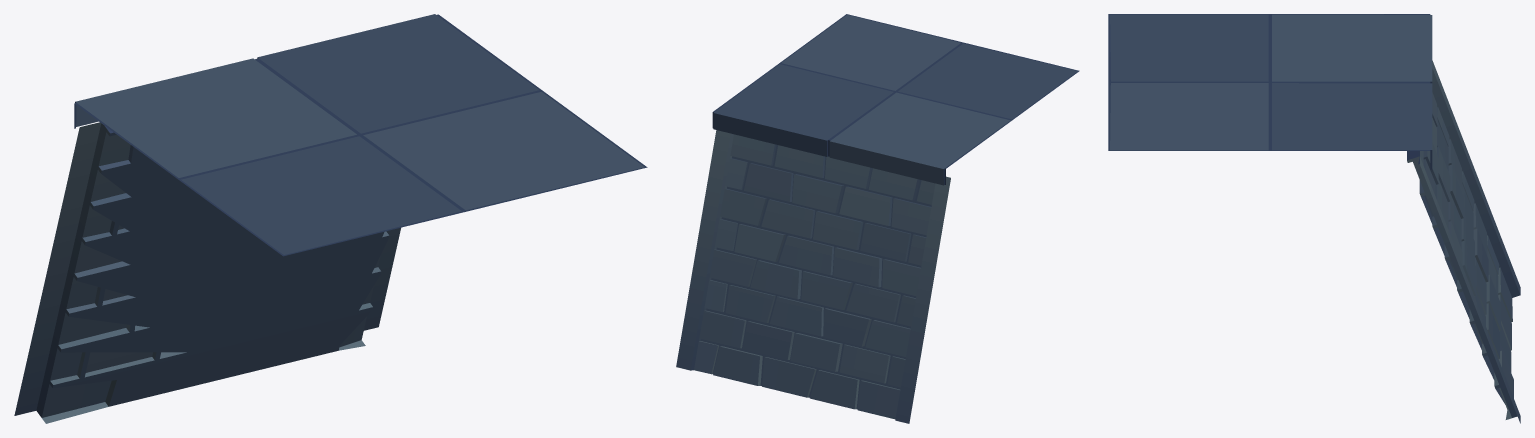
File: fbx-castle-tile-side-2.fbx
The picture shows the model from 3 angles, left to right: view 1: azimuth 30°, elevation 25°; view 2: azimuth 150°, elevation 25°; view 3: azimuth 270°, elevation 25°; orthographic projection. The views are drawn at different scales.
Visible parts, largest first — view 1: mesh-side-2; view 2: mesh-side-2; view 3: mesh-side-2.
Part boxes in pixels (box(x1,y1,x2,y2)): mesh-side-2: box(14, 14, 647, 423); mesh-side-2: box(676, 14, 1079, 423); mesh-side-2: box(1108, 14, 1520, 423).
Size of the model in its own units: 401 by 379 by 509.
